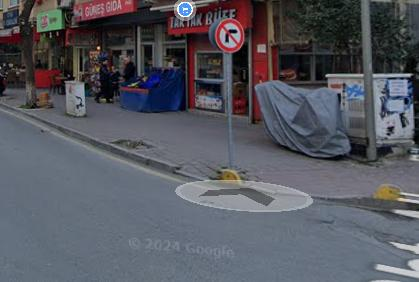rightturnsareforbidden: (217, 18, 242, 51)
